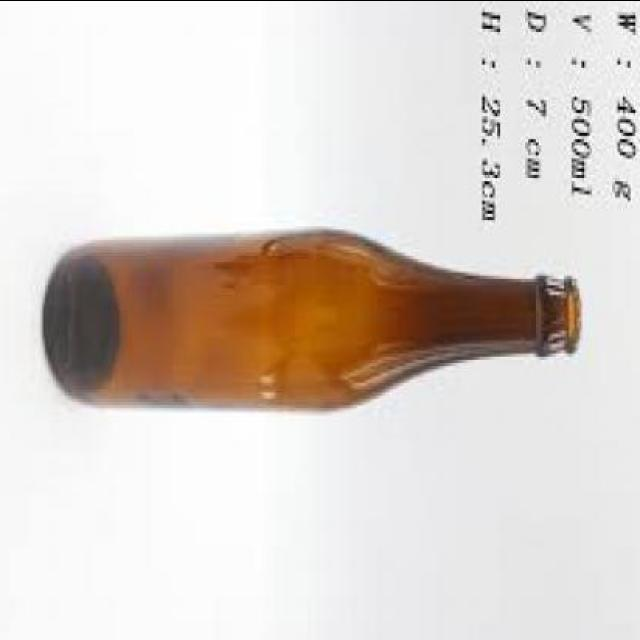kaca: (45, 226, 583, 408)
